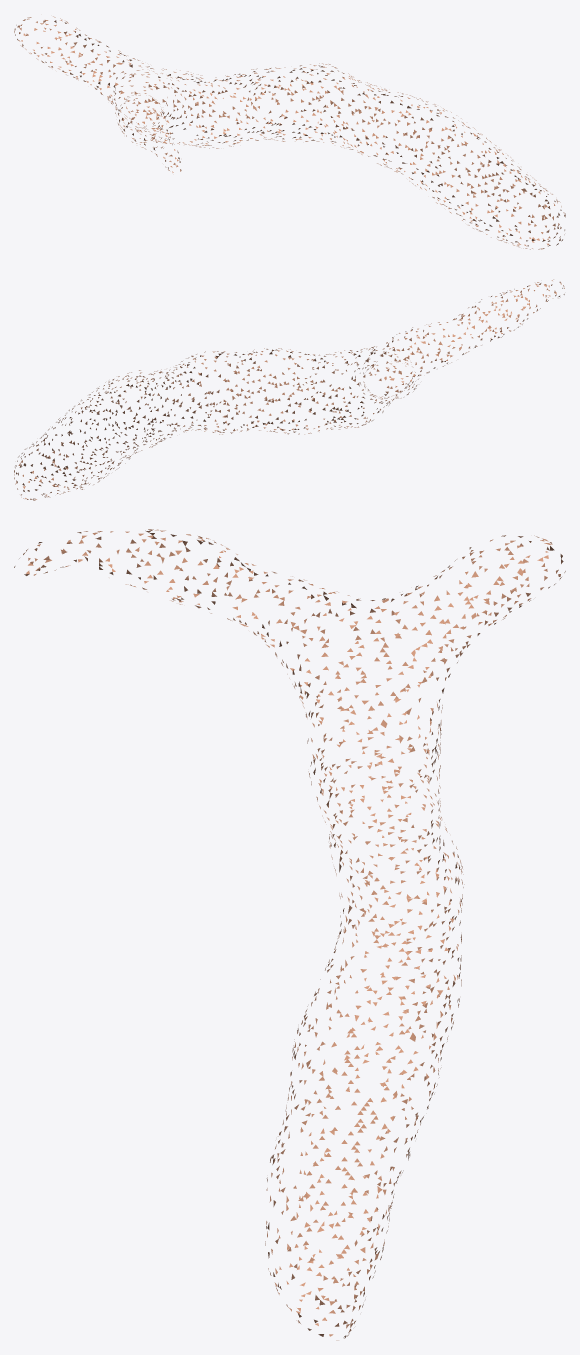
The model's file is morph_004.glb.
3 views of the same model, one above another, from view 1: azimuth 30°, elevation 25°; view 2: azimuth 150°, elevation 25°; view 3: azimuth 270°, elevation 25° (orthographic). The views are drawn at different scales.
Size of the model in its own units: 104 by 58.71 by 64.38.
